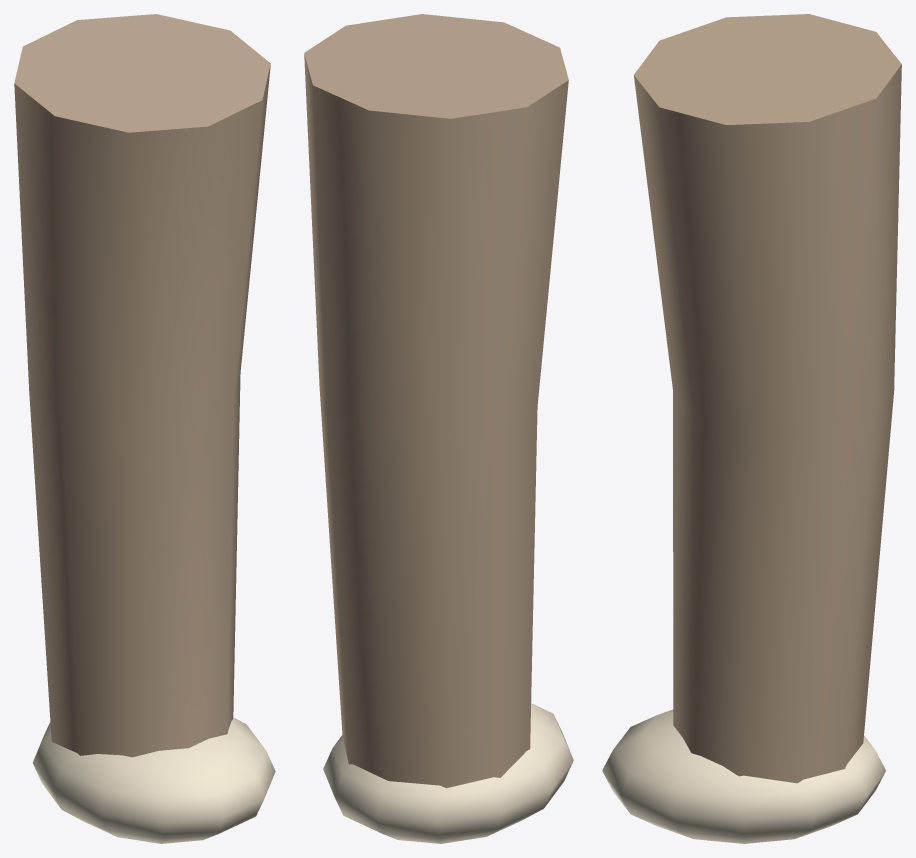
Rendered from cr_leg_b.fbx.
The picture shows the model from 3 angles, left to right: view 1: azimuth 30°, elevation 25°; view 2: azimuth 150°, elevation 25°; view 3: azimuth 270°, elevation 25°; orthographic projection. The views are drawn at different scales.
Visible parts, largest first — view 1: Leg; view 2: Leg; view 3: Leg.
Part boxes in pixels (x1=…): Leg: x1=14, y1=14, x2=275, y2=843; Leg: x1=304, y1=14, x2=573, y2=843; Leg: x1=602, y1=14, x2=901, y2=843.
Size of the model in its own units: 0.3234 by 1.06 by 0.3798.
